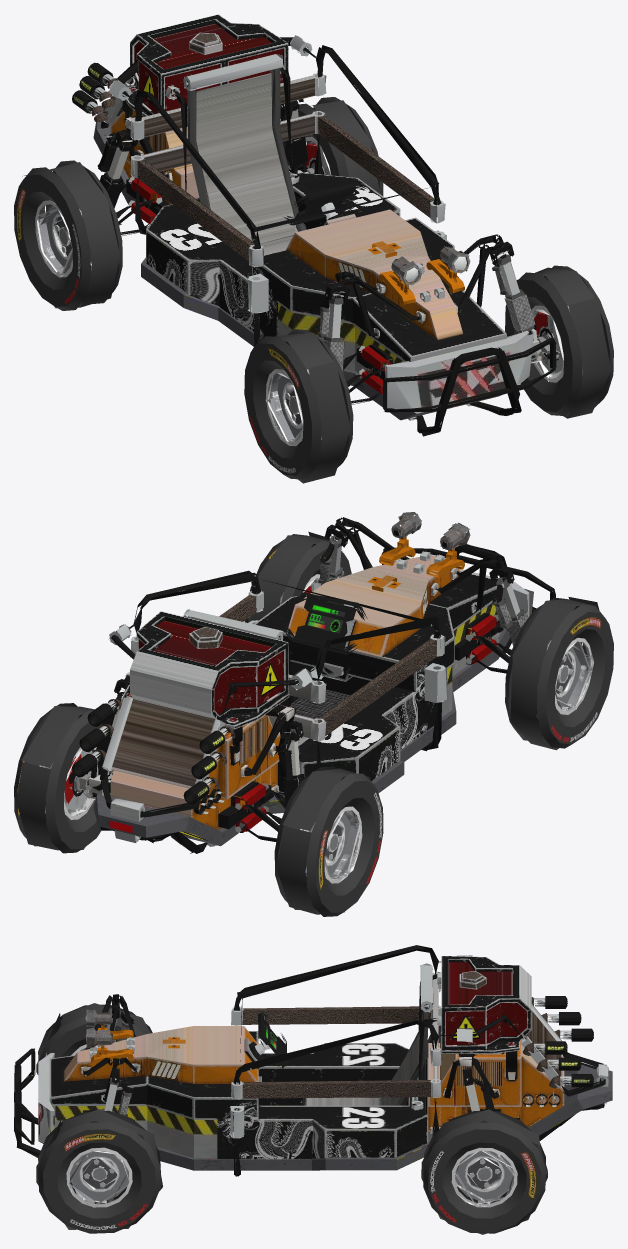
Rendered from buggy-2.glb.
The picture shows the model from 3 angles, top to bottom: view 1: azimuth 30°, elevation 25°; view 2: azimuth 150°, elevation 25°; view 3: azimuth 270°, elevation 25°; orthographic projection. The views are drawn at different scales.
Visible parts, largest first — view 1: 1 BAN_VHC_SC_Buggy01_ID-1_MAT_0; view 2: 1 BAN_VHC_SC_Buggy01_ID-1_MAT_0; view 3: 1 BAN_VHC_SC_Buggy01_ID-1_MAT_0.
Part boxes in pixels (x1,y1,x2,y2): 1 BAN_VHC_SC_Buggy01_ID-1_MAT_0: [14, 14, 613, 483]; 1 BAN_VHC_SC_Buggy01_ID-1_MAT_0: [14, 512, 613, 916]; 1 BAN_VHC_SC_Buggy01_ID-1_MAT_0: [14, 945, 612, 1234].
Size of the model in its own units: 1.84 by 1.41 by 3.8.
10 materials, 10 textured.
